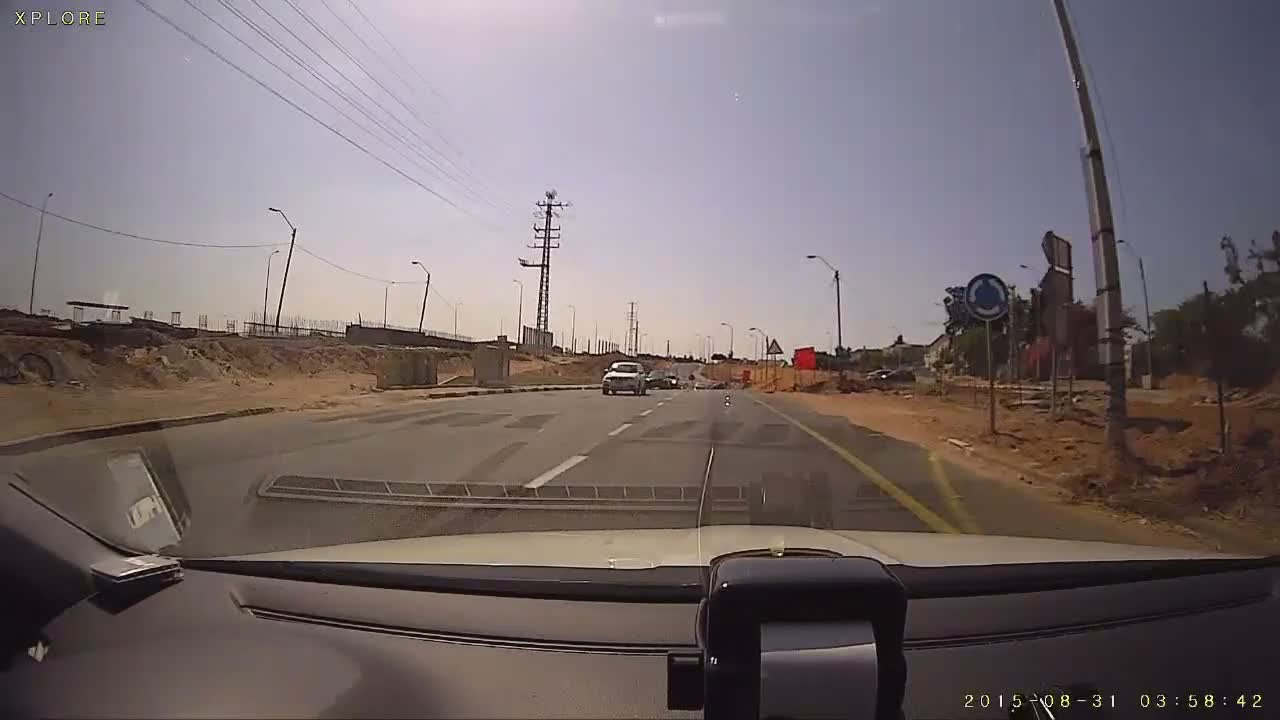car: (600, 361, 647, 396), (643, 367, 670, 390), (878, 368, 915, 381), (866, 368, 889, 378), (666, 374, 679, 389), (694, 381, 708, 389), (678, 379, 689, 389), (712, 381, 725, 389)
traffic sign: (966, 271, 1008, 322), (1037, 268, 1077, 306), (1039, 228, 1074, 269), (793, 345, 816, 370), (764, 336, 782, 354), (740, 368, 750, 380)
